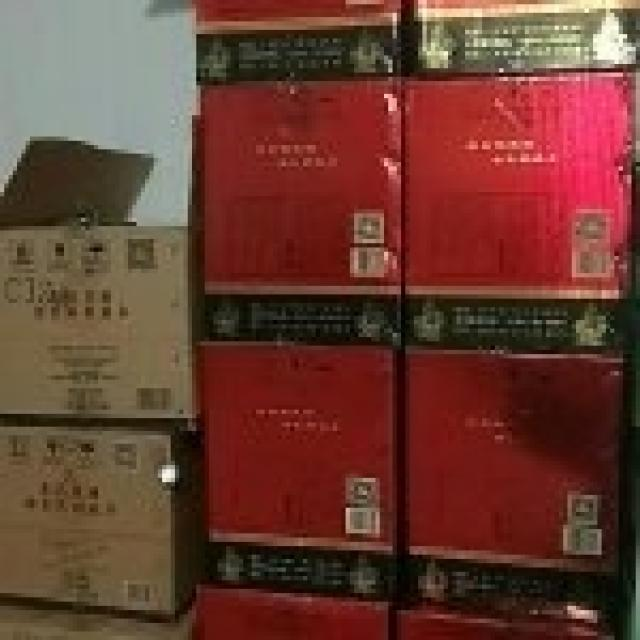box: (405, 68, 636, 354), (401, 345, 626, 631), (0, 138, 200, 429), (192, 79, 404, 343), (201, 341, 398, 601), (0, 422, 208, 629), (404, 0, 636, 75), (195, 3, 401, 87), (200, 590, 391, 635), (393, 606, 620, 636)
